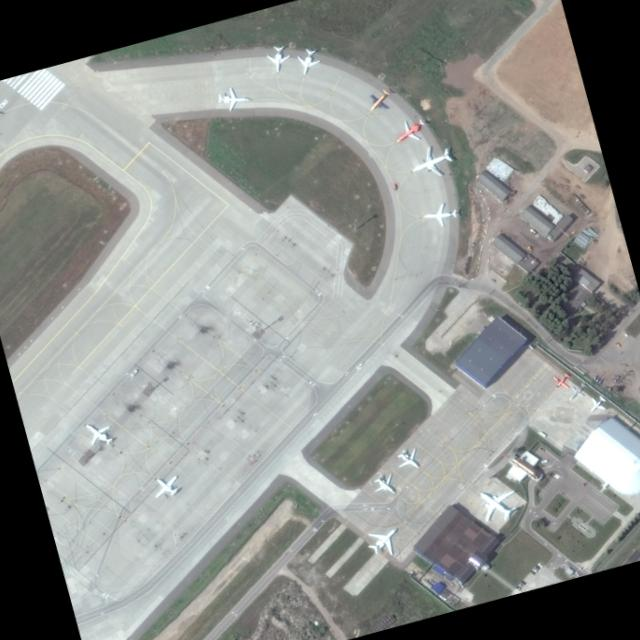plane: (468, 479, 524, 528), (361, 517, 407, 562), (407, 141, 455, 184), (76, 416, 118, 451), (392, 114, 429, 150), (146, 468, 183, 504), (390, 444, 427, 475), (362, 86, 396, 118), (368, 469, 402, 500), (423, 202, 455, 228), (216, 88, 249, 112), (294, 47, 321, 76), (266, 45, 290, 73), (564, 380, 589, 404), (550, 369, 574, 393), (583, 394, 608, 417)
small-vehicle: (536, 430, 545, 438), (390, 183, 396, 191), (537, 446, 545, 452), (597, 378, 603, 385), (594, 376, 601, 382), (592, 374, 598, 381), (581, 480, 587, 487), (357, 361, 363, 367), (540, 459, 547, 464), (615, 342, 620, 348), (515, 586, 521, 591), (529, 570, 535, 575), (622, 332, 627, 337), (520, 580, 525, 585), (537, 562, 542, 567), (531, 568, 537, 572), (517, 583, 522, 587), (534, 565, 539, 569)
